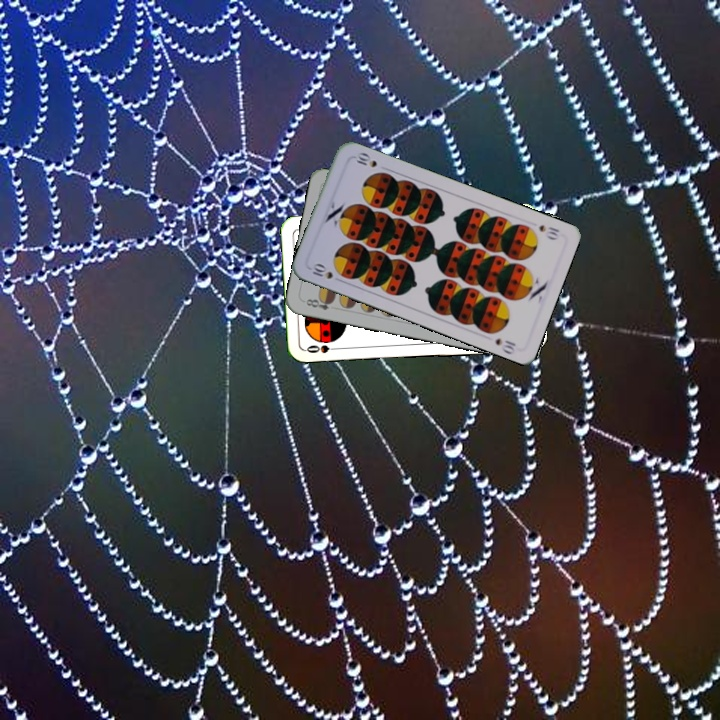E8: (302, 294, 336, 313)
S10: (306, 259, 335, 282), (535, 221, 562, 243)
SO: (302, 341, 343, 356)
